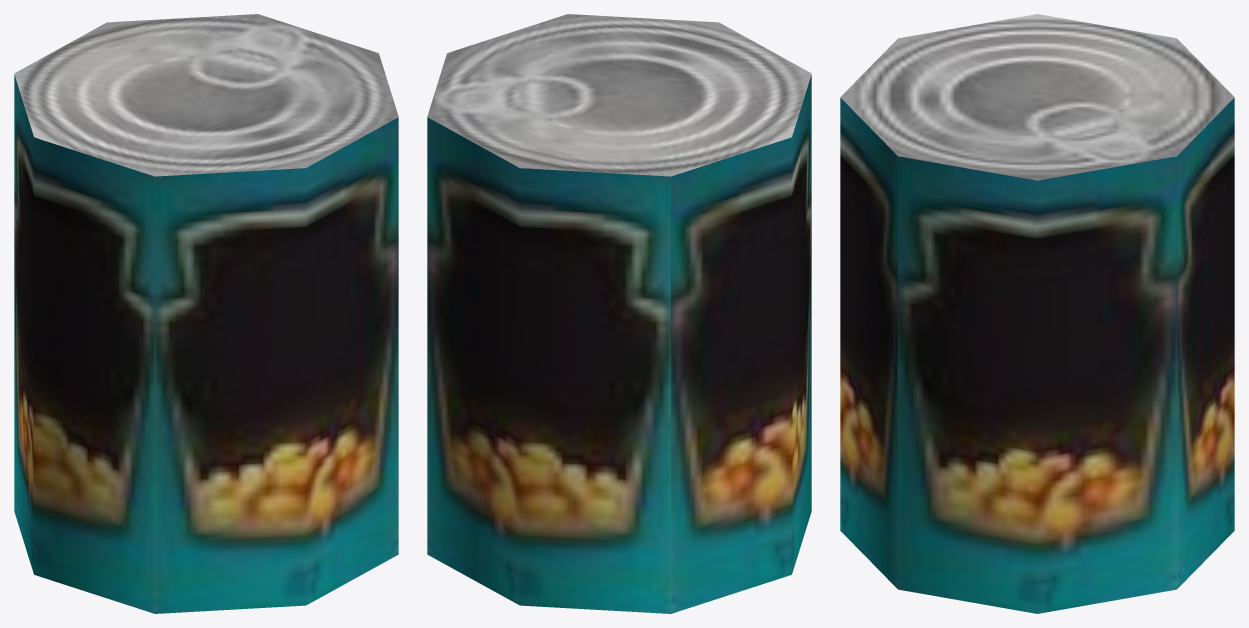
Rendered from Canned_food_08.glb.
The picture shows the model from 3 angles, left to right: view 1: azimuth 30°, elevation 25°; view 2: azimuth 150°, elevation 25°; view 3: azimuth 270°, elevation 25°; orthographic projection.
Visible parts, largest first — view 1: Canned_food_08; view 2: Canned_food_08; view 3: Canned_food_08.
Boxes of the visible parts, <box> form: Canned_food_08: <box>14,14,398,613</box>; Canned_food_08: <box>427,14,811,613</box>; Canned_food_08: <box>840,14,1234,613</box>.
Size of the model in its own units: 0.0792 by 0.0959 by 0.0792.
Materials: 1 (1 with a texture image).
